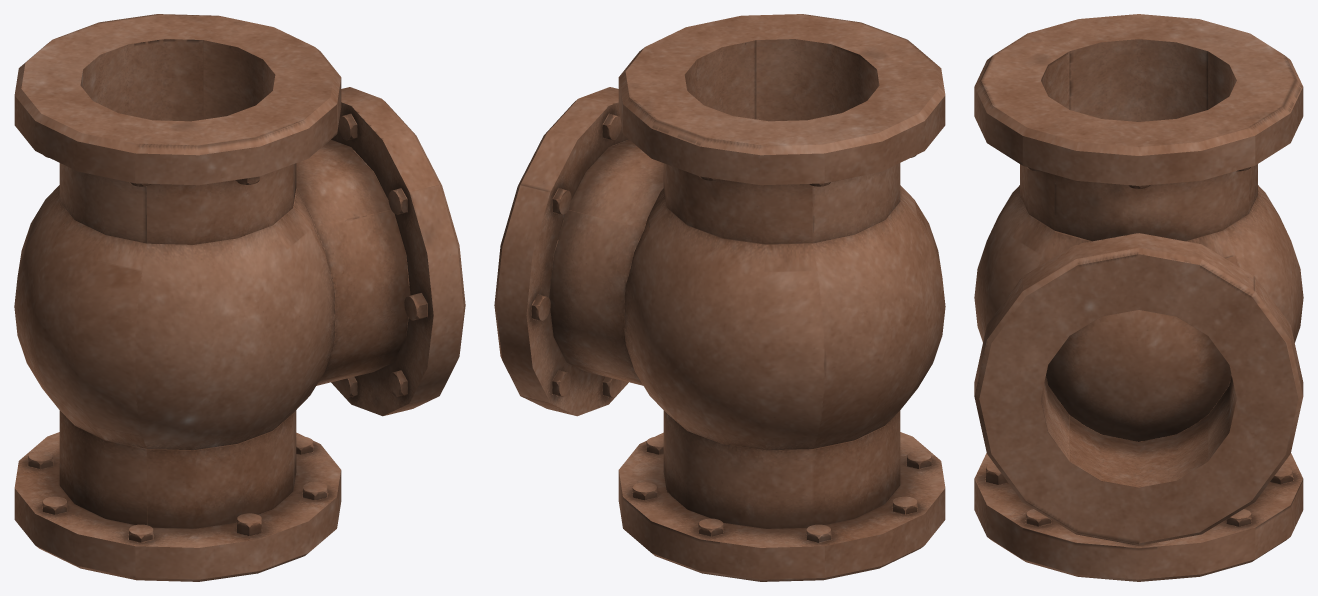
The model's file is _Tpipe.fbx.
3 views of the same model, side by side, from view 1: azimuth 30°, elevation 25°; view 2: azimuth 150°, elevation 25°; view 3: azimuth 270°, elevation 25° (orthographic).
Parts seen in each view (by area): view 1: Tpipe.001; view 2: Tpipe.001; view 3: Tpipe.001.
Part boxes in pixels (box(x1,y1,x2,y2)): Tpipe.001: box(14, 14, 465, 581); Tpipe.001: box(494, 14, 945, 581); Tpipe.001: box(974, 14, 1303, 581).
Size of the model in its own units: 8479 by 10050 by 6909.
